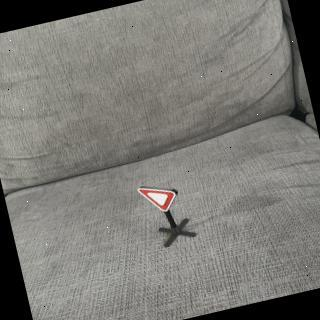sign_yield: (136, 178, 184, 220)
